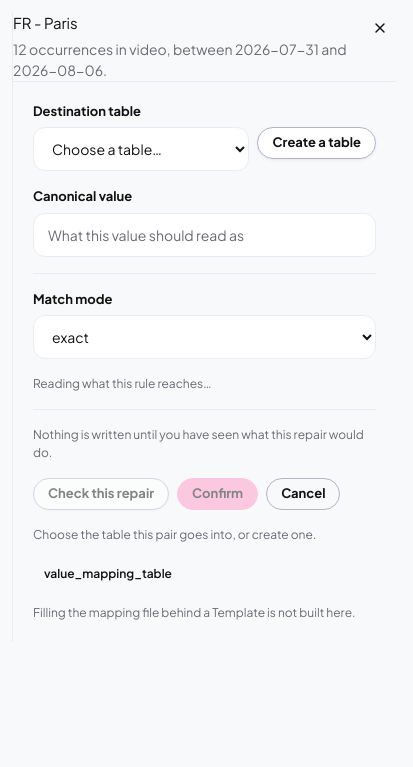
Test: S3 — the repair drawer › HOLDS THE CONFIRM when the impact could not be read
This screenshot has width=413, height=767.
Expected: the element with test id "repair-reach" is shown, [33,376,212,391]
Select "Country vocabulary" in the dropdown with test id "repair-destination" at (141, 149), box [33,127,250,171]
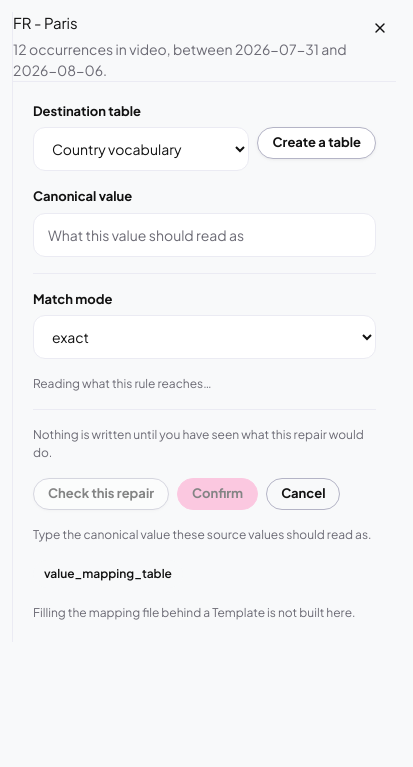
Type "France" into the field with test id "repair-canonical" at (204, 234), box [33,212,376,256]
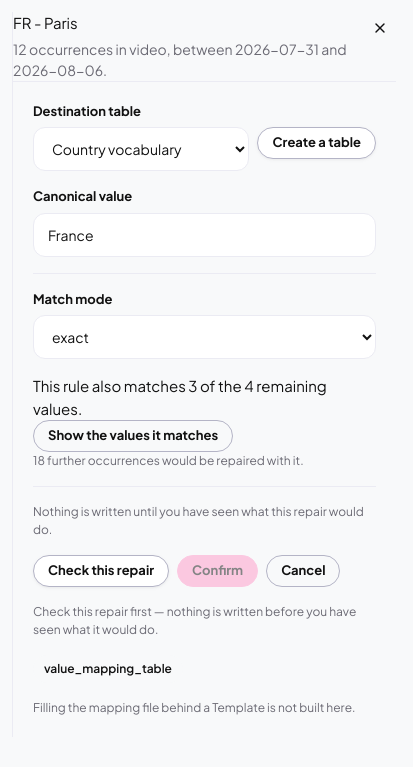
Click the button with test id "repair-check" at (101, 571), box [33,555,169,587]
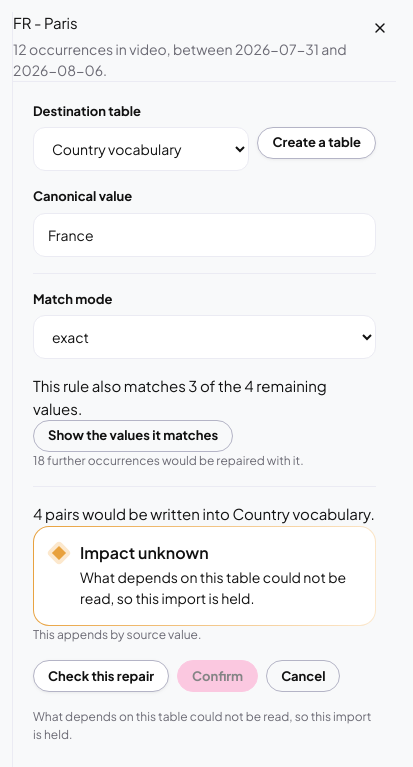
Expected: the button with test id "repair-confirm" is disabled, [177,660,258,692]
Result: the element with test id "repair-impact" shows "could not be read" at [80,568,346,607]
